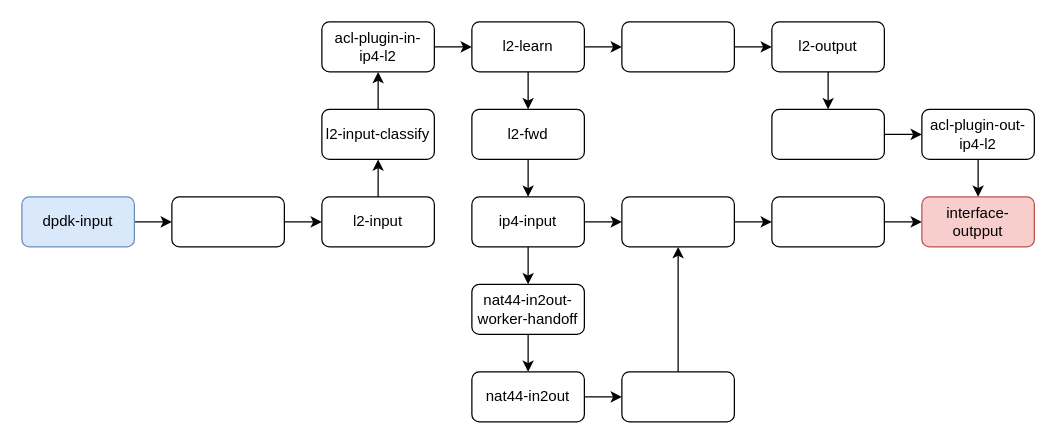
Some shapes in this 1056 by 444 pixel diagram are drawn without their labels. The shapes that lost their labels are listed below. From the top down, each one's centre as x and y in pixels, then its label:
point 677,46: l2-flood
point 827,133: l2-output-classify
point 227,221: ethernet-input
point 677,221: ip4-lookup
point 827,221: ip4-rewrite
point 677,396: nat44-in2out-slowpath
